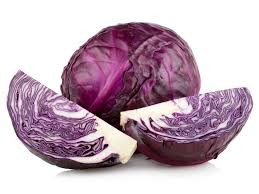cabbage: (63, 20, 229, 130)
